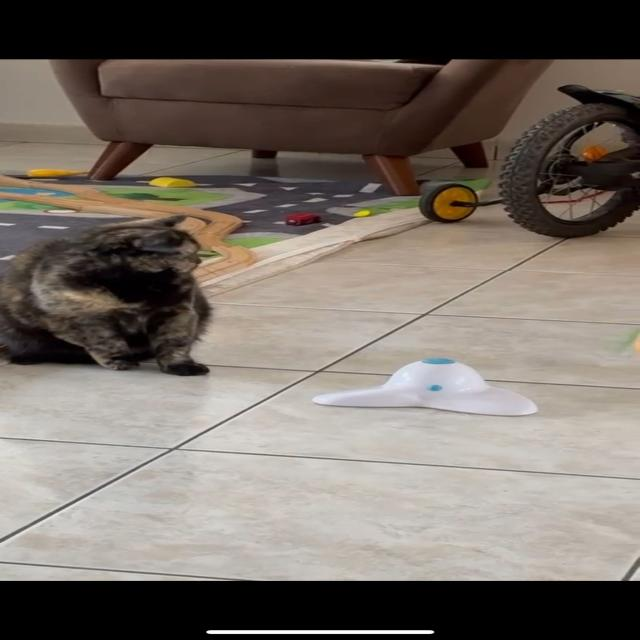authorized: (0, 214, 214, 376)
